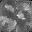people: (4, 4, 14, 14), (16, 10, 25, 20), (8, 21, 17, 31), (2, 17, 12, 25), (0, 13, 8, 21)
